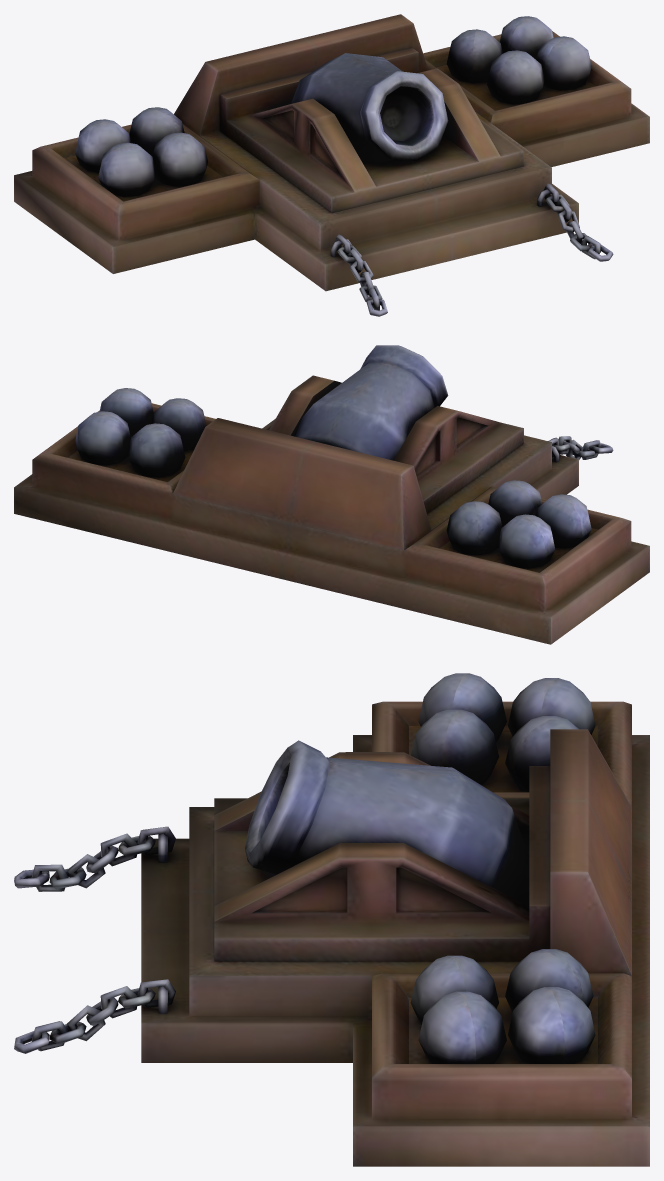
File: Cannon.glb
3 renders of one model, top to bottom at view 1: azimuth 30°, elevation 25°; view 2: azimuth 150°, elevation 25°; view 3: azimuth 270°, elevation 25°, orthographic. The views are drawn at different scales.
Parts seen in each view (by area): view 1: low; view 2: low; view 3: low.
Part boxes in pixels (left/top/right/bottom): low: left=14, top=14, right=649, bottom=316; low: left=14, top=345, right=649, bottom=644; low: left=14, top=673, right=649, bottom=1166.
Size of the model in its own units: 7.21 by 1.93 by 4.94.
1 material, 1 textured.
